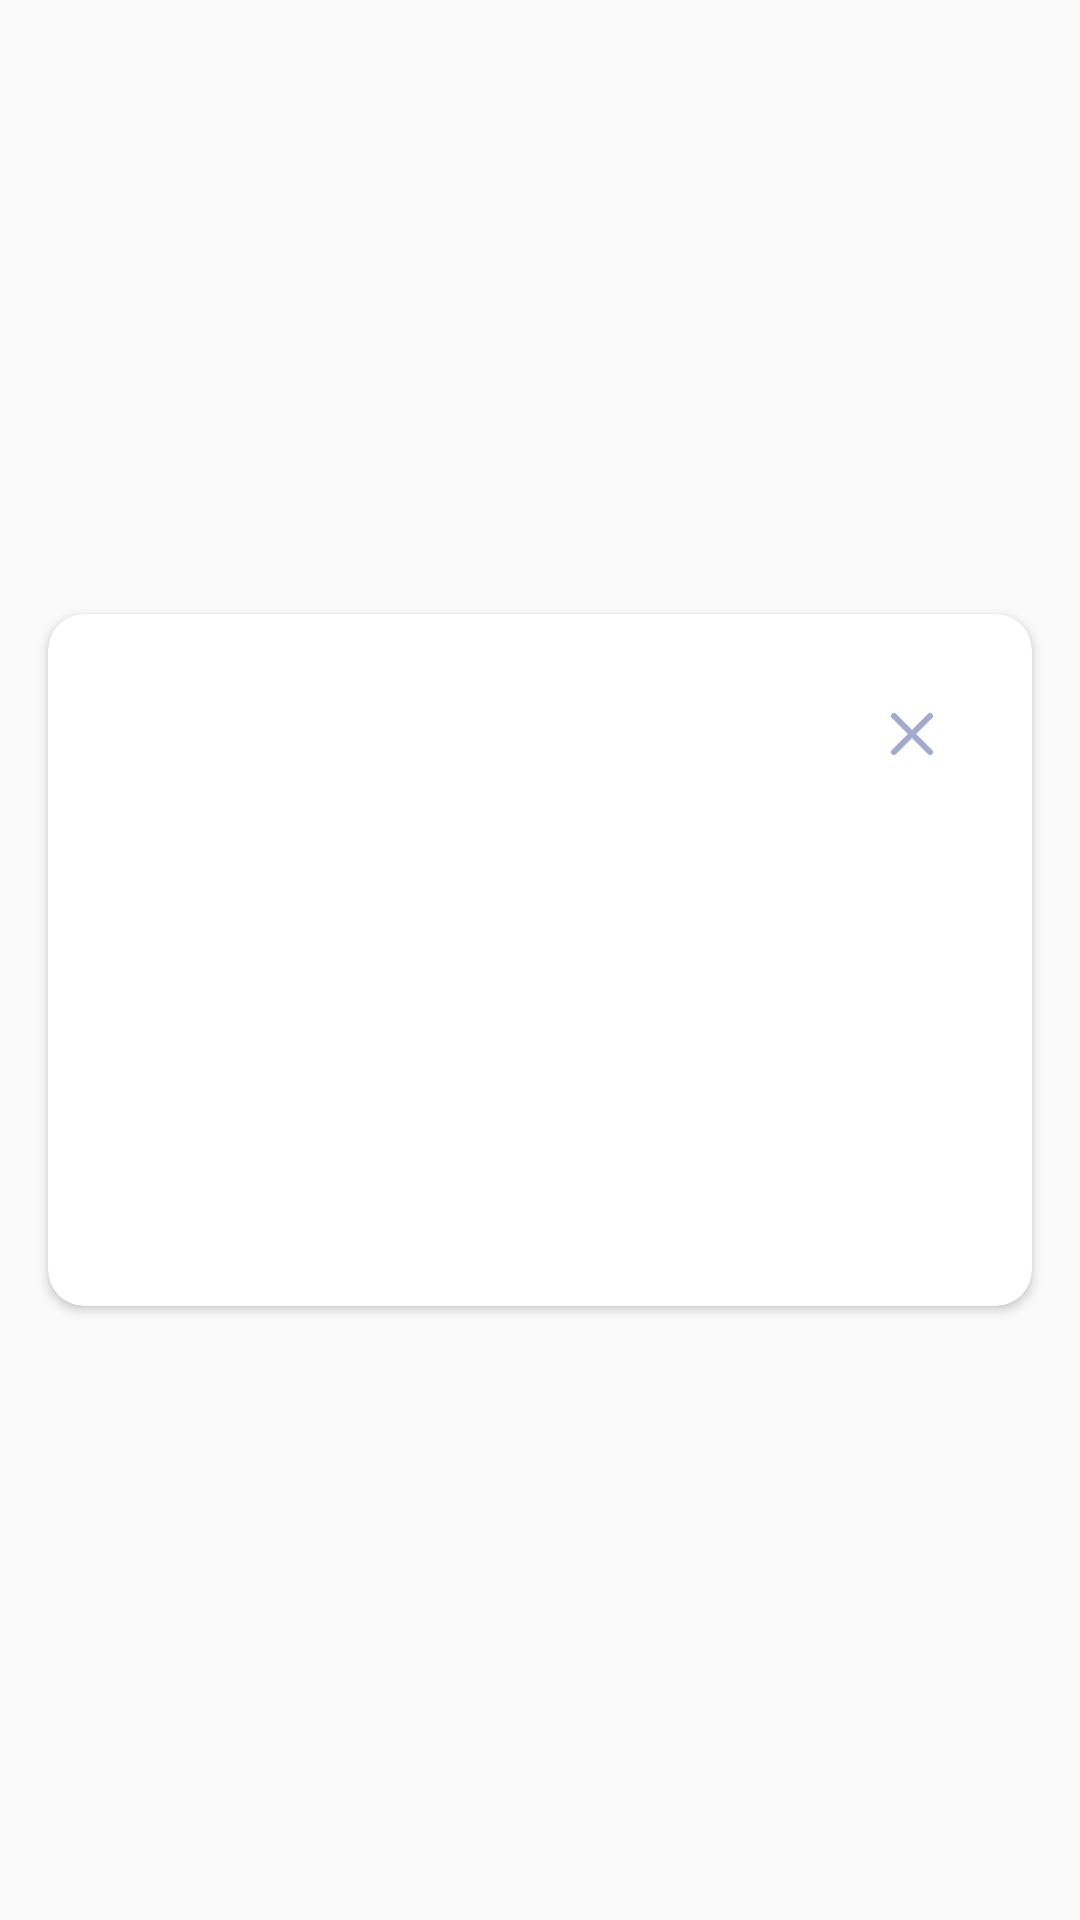

Point at icon controls on the screen. Image size 1080w x 1920h, points as point (x, y).
close: point (912, 734)
